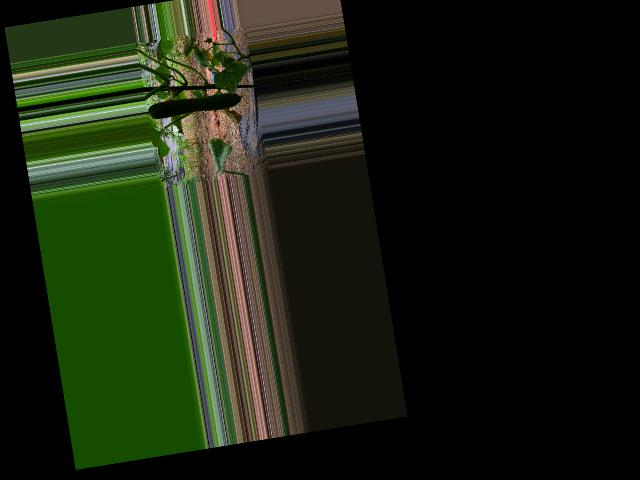cucumber: (147, 89, 245, 121)
